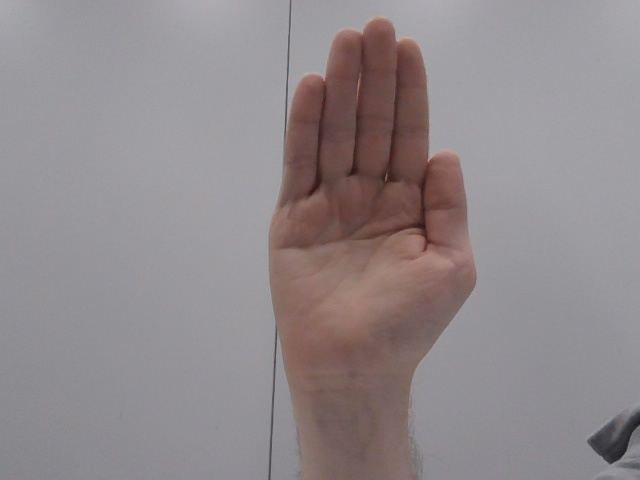nada: (238, 3, 487, 431)
